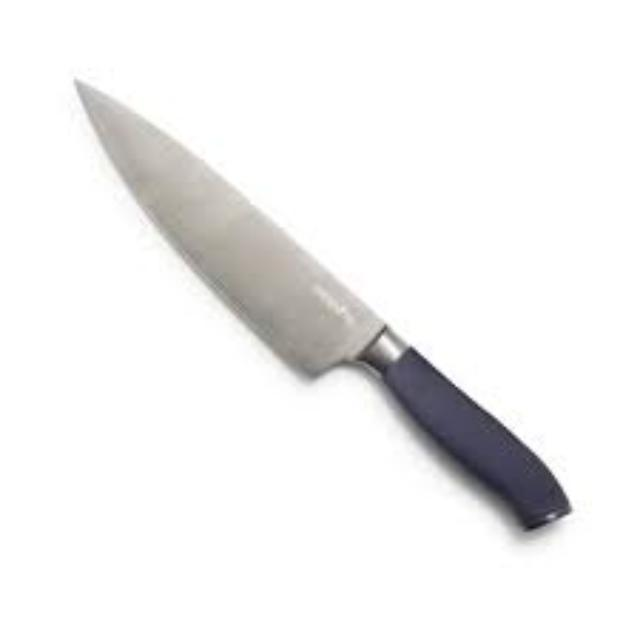knife: (71, 74, 571, 532)
